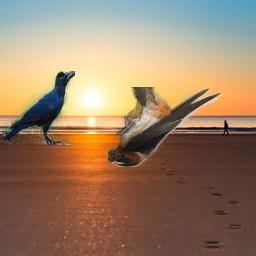Crow: (2, 71, 75, 145)
Swallow: (108, 87, 223, 167)
